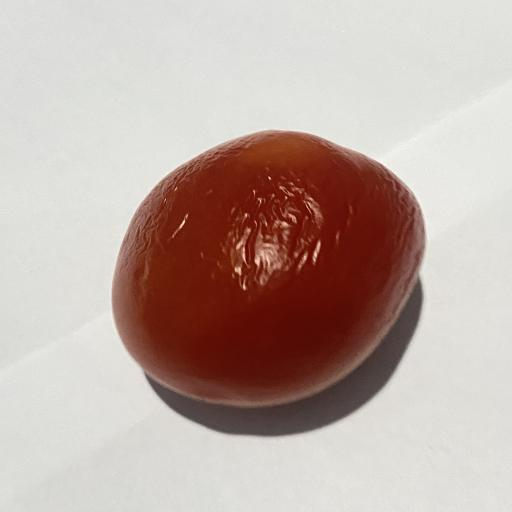spoiled: (112, 131, 425, 407)
